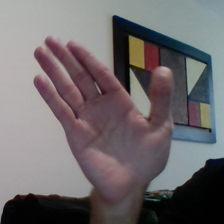left: (27, 19, 182, 211)
